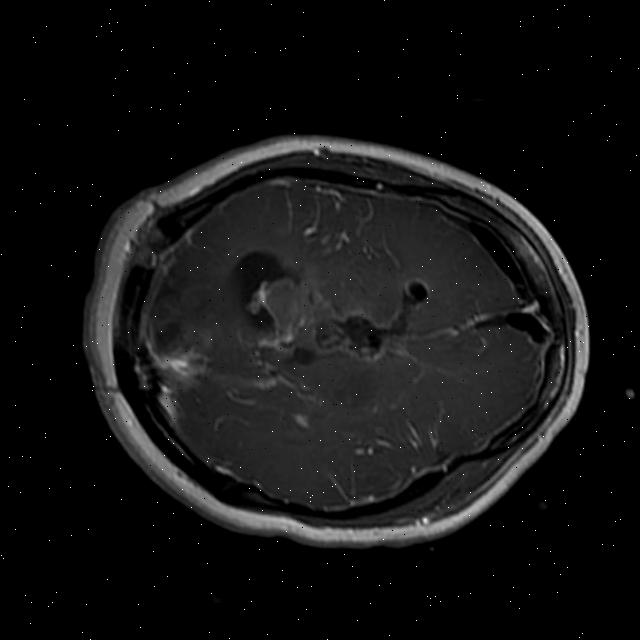Glioma: (234, 269, 324, 360)
